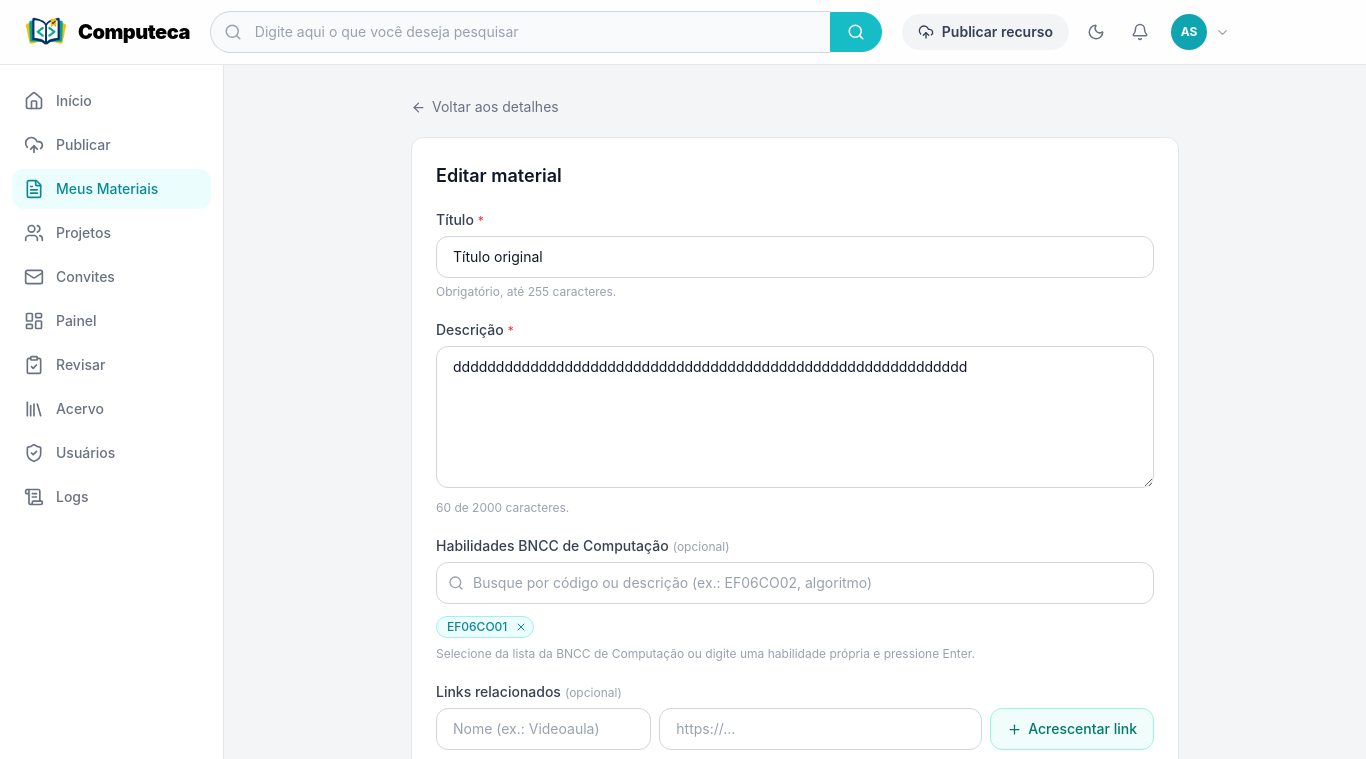
Scenario: MaterialEditPage › o seletor de habilidades encontra uma habilidade da Educação Infantil
Type "EI03CO03" into the field labelled "Habilidades BNCC de Computação(opcional)".
click(795, 583); type("EI03CO03")  # box top-left (436, 562), bottom-right (1154, 604)
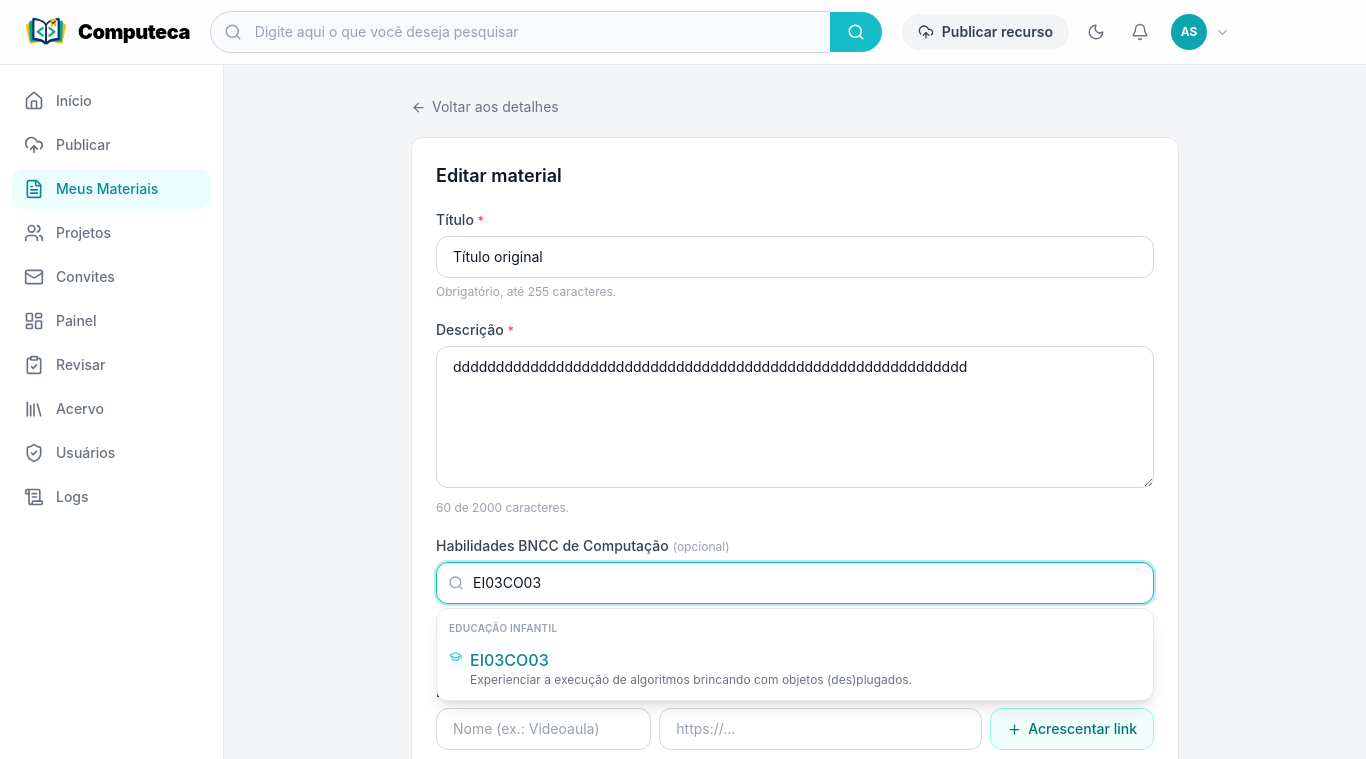
Expected: the option "EI03CO03" is shown, top-left (437, 640), bottom-right (1153, 696)
